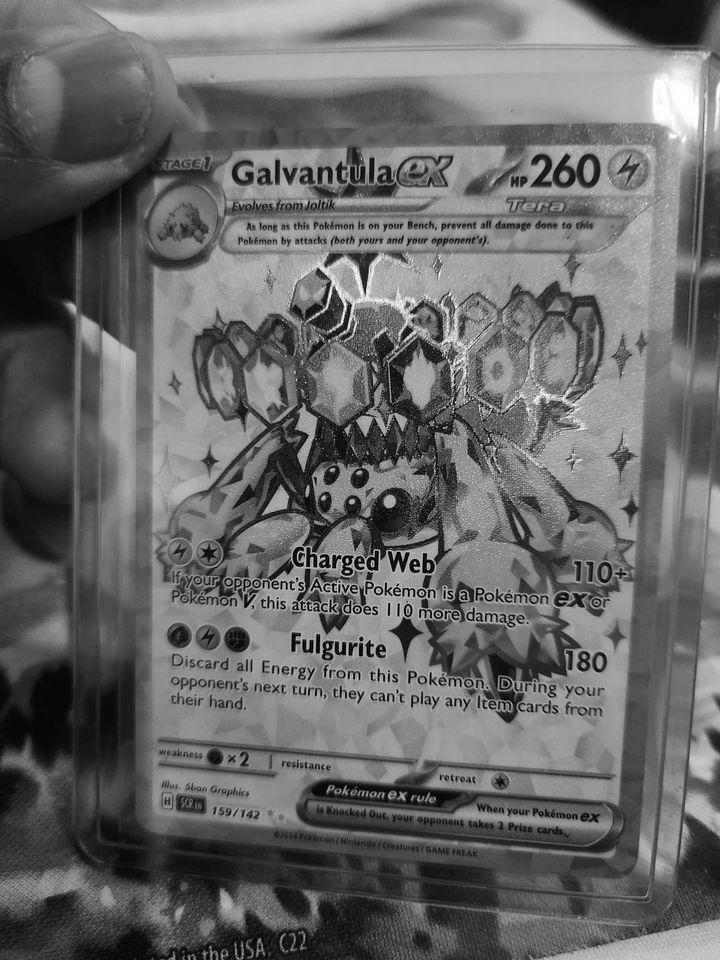card: (134, 122, 683, 881)
